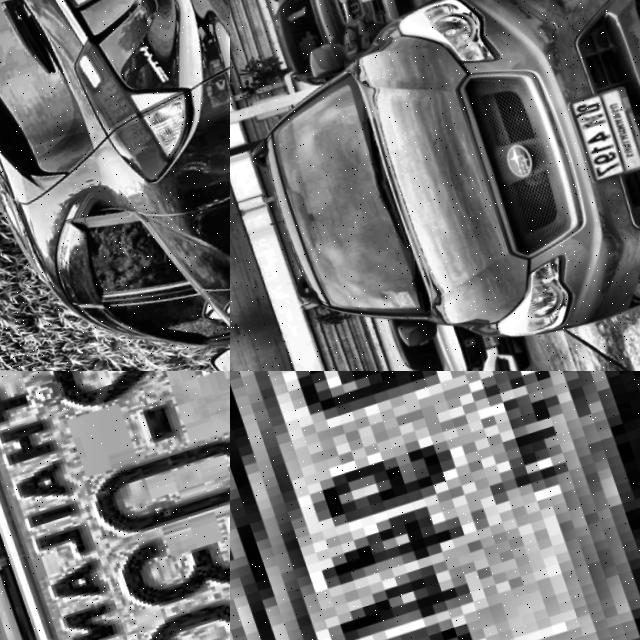license-plate: (230, 371, 640, 640), (0, 371, 230, 640), (558, 90, 640, 191), (469, 329, 494, 354), (350, 0, 374, 6)
